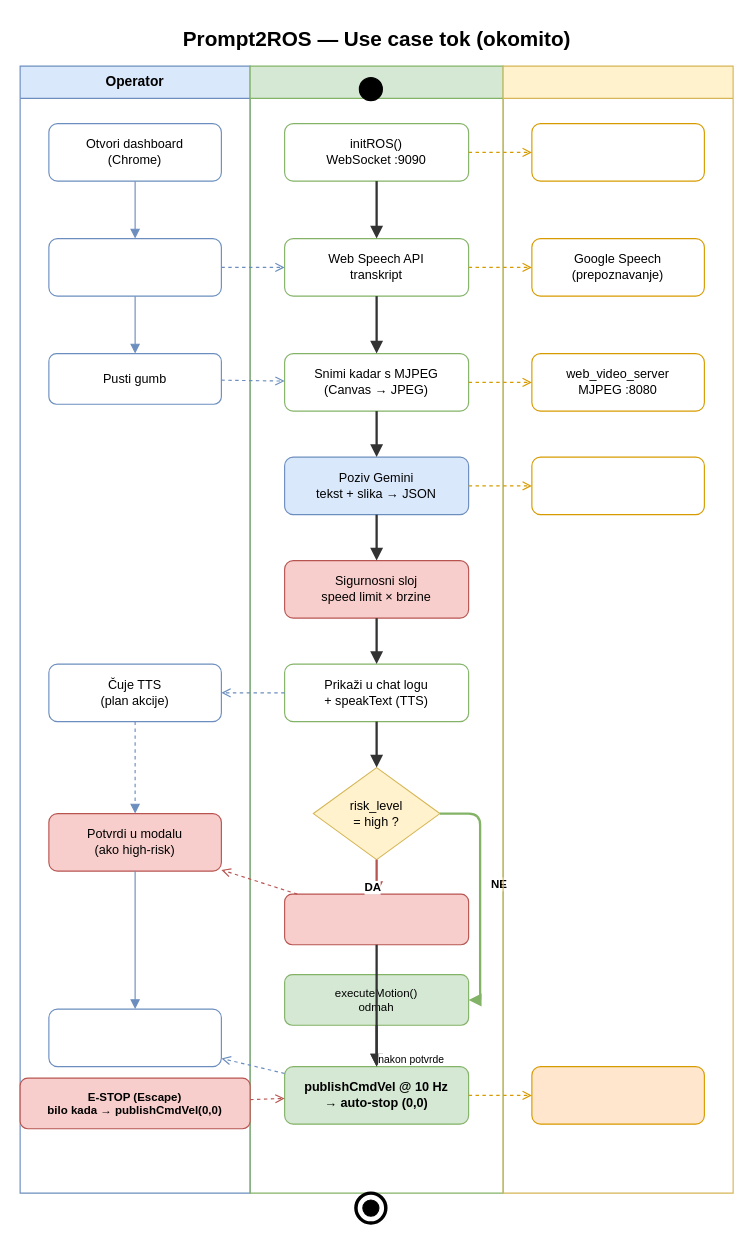
The diagram is 753 pixels wide and 1244 high, and some of its shapes have lost their labels. Each missing label, with the box of its shape:
Drži HOLD TO SPEAK govori (hr-HR): (48, 237, 221, 296)
Fizički robot /cmd_vel, /odom: (531, 1065, 704, 1124)
Gemini API generateContent: (531, 456, 704, 515)
HighRiskModal Execute / Cancel: (283, 893, 469, 945)
Prati robota / kartu (opcionalno E-STOP): (48, 1008, 221, 1067)
rosbridge + ROS 2: (531, 122, 704, 181)
Vanjski sustavi: (502, 65, 733, 1193)
Web aplikacija: (249, 65, 503, 1193)
